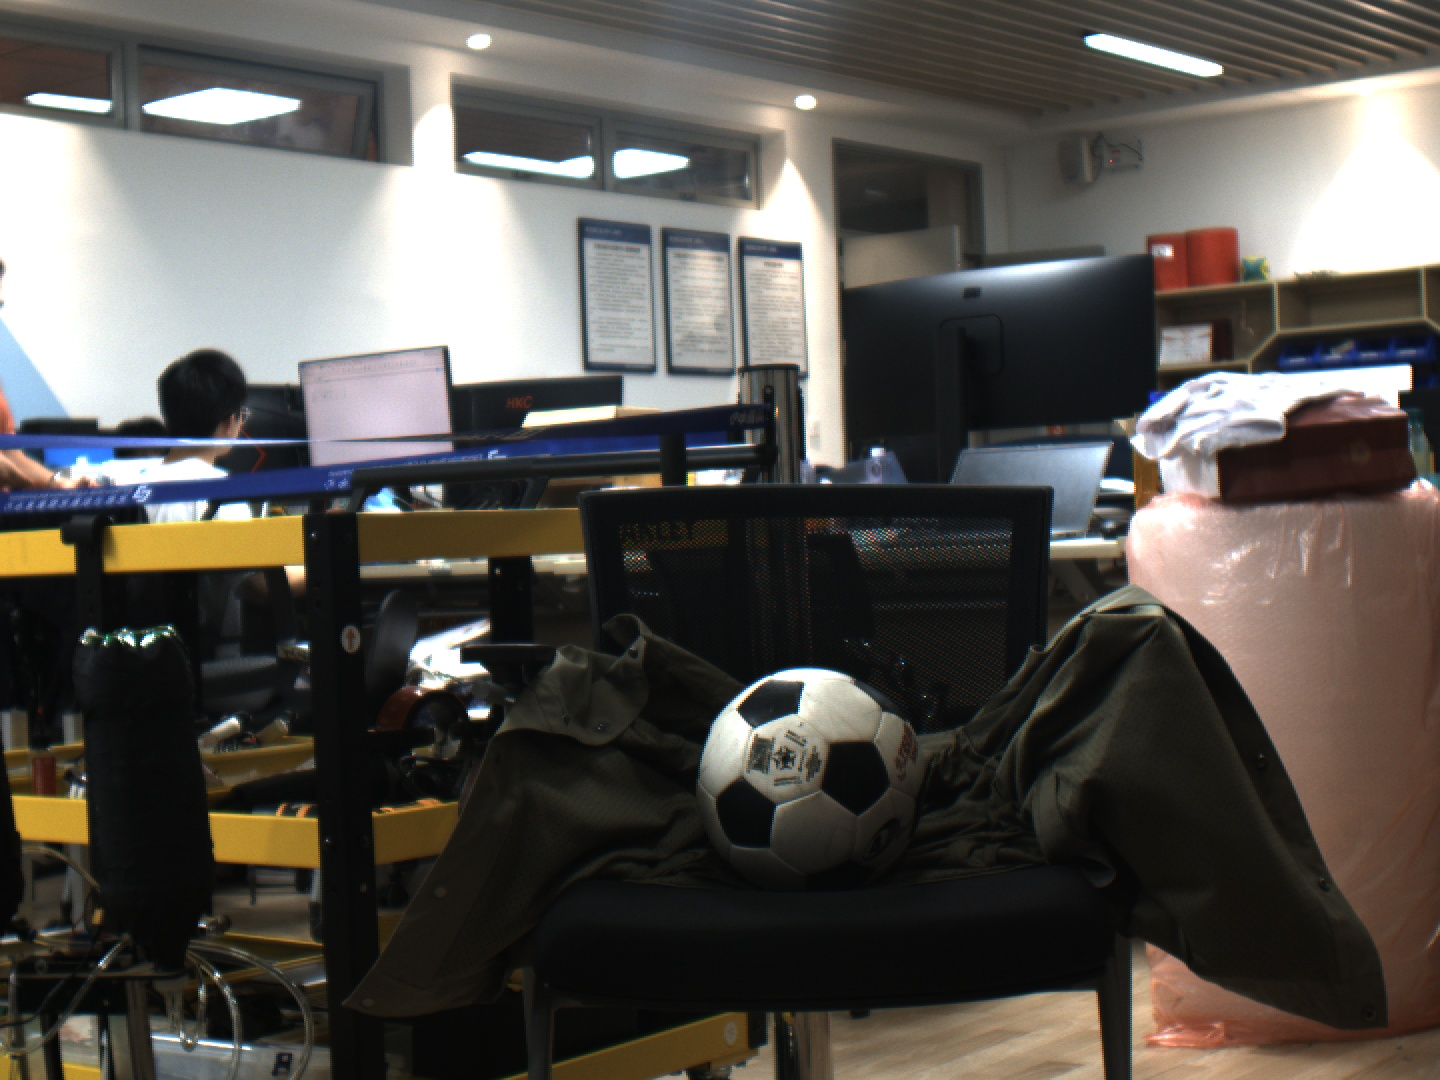ball: (696, 661, 929, 894)
